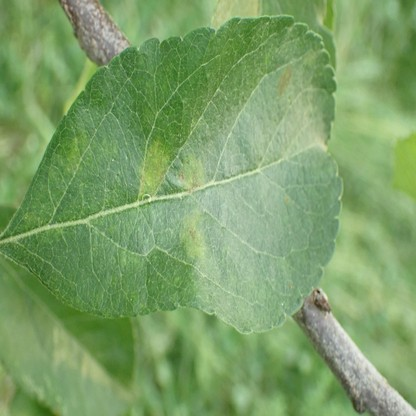scab: (67, 139, 117, 170), (180, 214, 206, 259), (142, 144, 167, 188), (176, 153, 206, 188), (279, 69, 291, 93)
